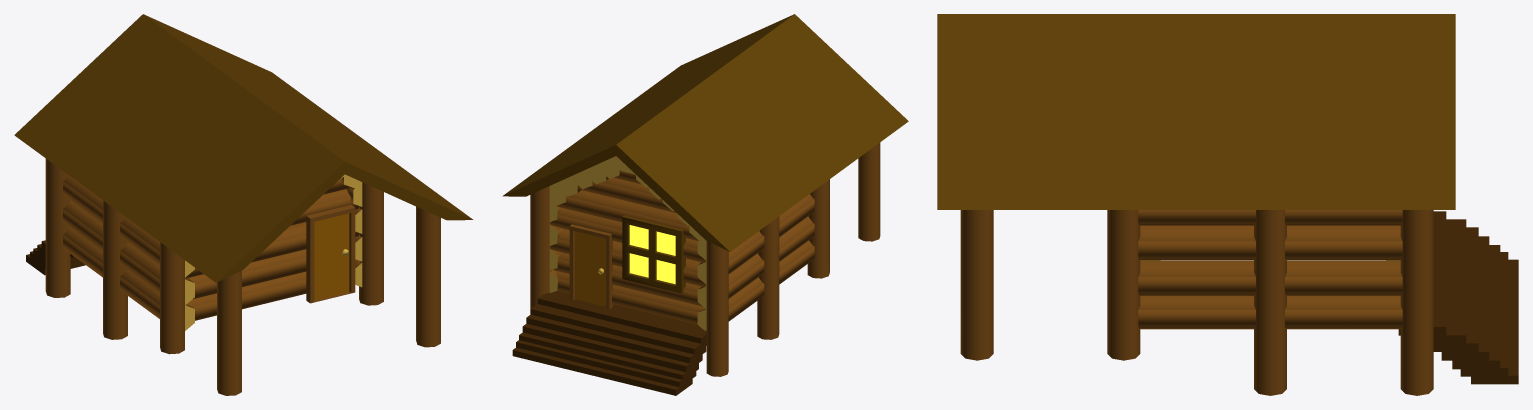
File: fishing_hut.fbx
The picture shows the model from 3 angles, left to right: view 1: azimuth 30°, elevation 25°; view 2: azimuth 150°, elevation 25°; view 3: azimuth 270°, elevation 25°; orthographic projection. The views are drawn at different scales.
Visible parts, largest first — view 1: Collide, Don'tCollide; view 2: Collide, Don'tCollide; view 3: Collide.
Part boxes in pixels (box(x1,y1,x2,y2)): Collide: box(14, 14, 473, 395); Don'tCollide: box(306, 204, 355, 303); Collide: box(502, 14, 908, 395); Don'tCollide: box(569, 215, 685, 309); Collide: box(937, 14, 1518, 395).
Size of the model in its own units: 391 by 353 by 595.
